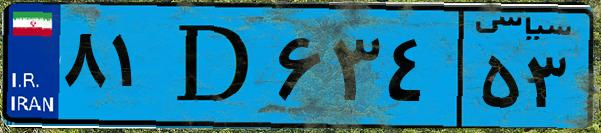1: (110, 28, 158, 98)
3: (330, 28, 385, 110), (525, 38, 570, 115)
4: (385, 28, 445, 110)
5: (475, 38, 525, 113)
6: (270, 28, 330, 110)
8: (57, 26, 110, 100)
D: (158, 12, 270, 120)
